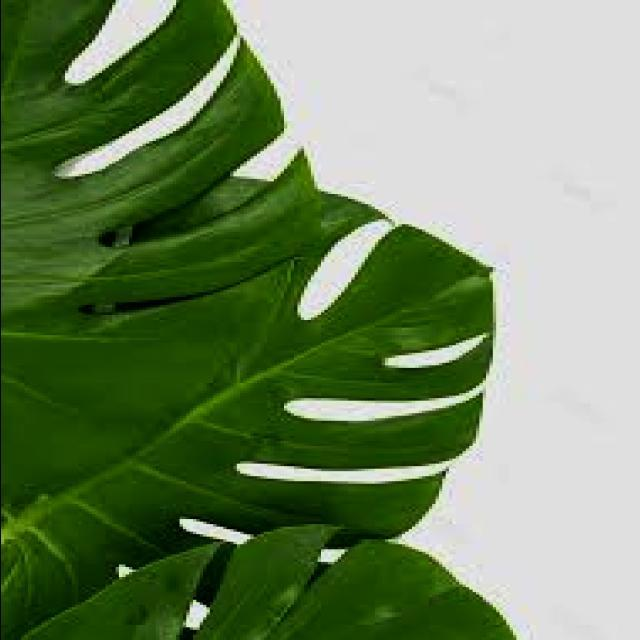leaf: (0, 0, 517, 638)
